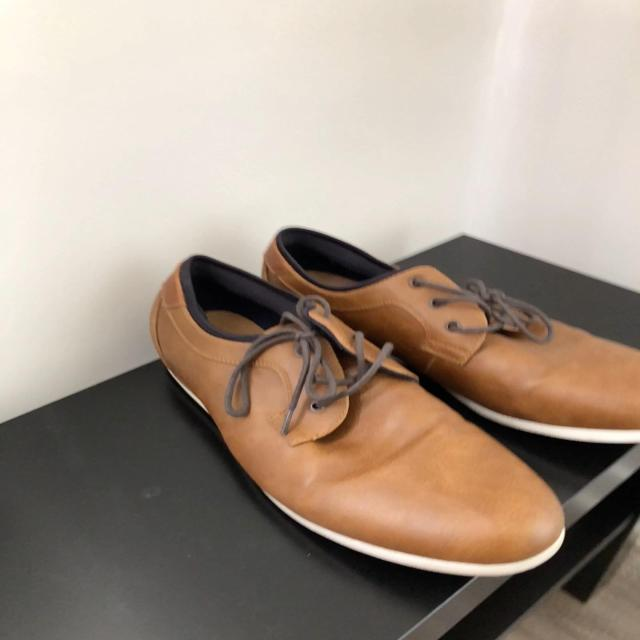shoe: (151, 256, 565, 562), (270, 221, 640, 434)
